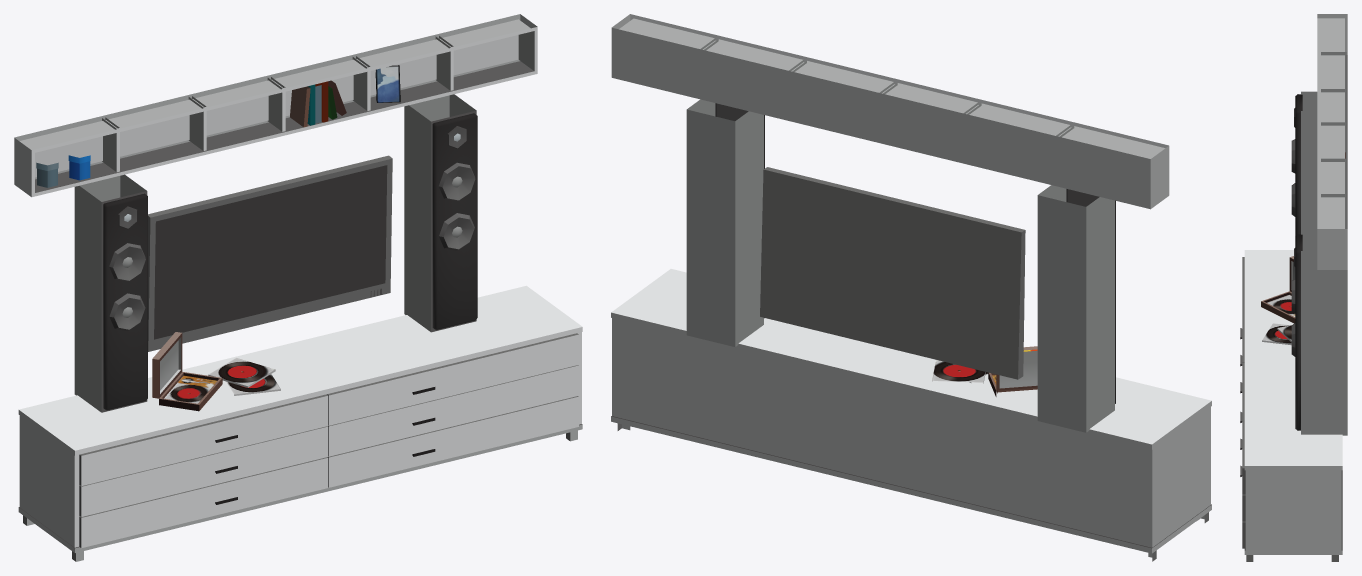
File: M_TVgui02.FBX
3 renders of one model, left to right at view 1: azimuth 30°, elevation 25°; view 2: azimuth 150°, elevation 25°; view 3: azimuth 270°, elevation 25°, orthographic. The views are drawn at different scales.
Visible parts, largest first — view 1: M_TVgui02_01, M_TVgui02_02, M_TVgui02_03; view 2: M_TVgui02_01, M_TVgui02_02, M_TVgui02_03; view 3: M_TVgui02_01, M_TVgui02_02, M_TVgui02_03.
Part boxes in pixels (bbox=[...]): M_TVgui02_01: bbox=[14, 14, 582, 561]; M_TVgui02_02: bbox=[74, 94, 476, 412]; M_TVgui02_03: bbox=[164, 65, 400, 403]; M_TVgui02_01: bbox=[611, 14, 1211, 561]; M_TVgui02_02: bbox=[686, 99, 1114, 432]; M_TVgui02_03: bbox=[932, 360, 996, 384]; M_TVgui02_01: bbox=[1240, 14, 1347, 561]; M_TVgui02_02: bbox=[1291, 91, 1347, 435]; M_TVgui02_03: bbox=[1262, 295, 1295, 345].
Size of the model in its own units: 5.27 by 3.78 by 1.1.
